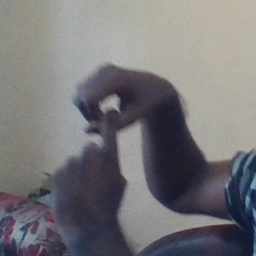Q: (50, 61, 166, 211)
